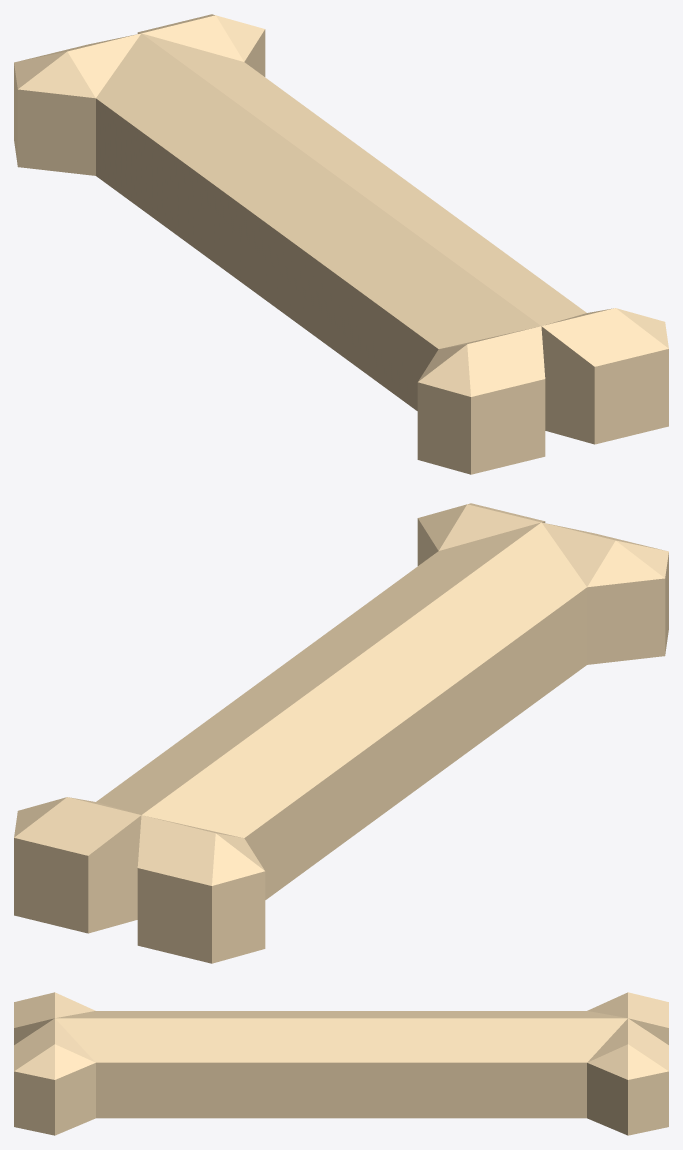
File: largebone.obj
The picture shows the model from 3 angles, top to bottom: view 1: azimuth 30°, elevation 25°; view 2: azimuth 150°, elevation 25°; view 3: azimuth 270°, elevation 25°; orthographic projection. The views are drawn at different scales.
Parts seen in each view (by area): view 1: largebone_back; view 2: largebone_back; view 3: largebone_back.
Part boxes in pixels (x1,y1,x2,y2): largebone_back: [14, 14, 668, 474]; largebone_back: [14, 503, 668, 963]; largebone_back: [14, 992, 668, 1135].
Size of the model in its own units: 0.4 by 0.16 by 1.28.
